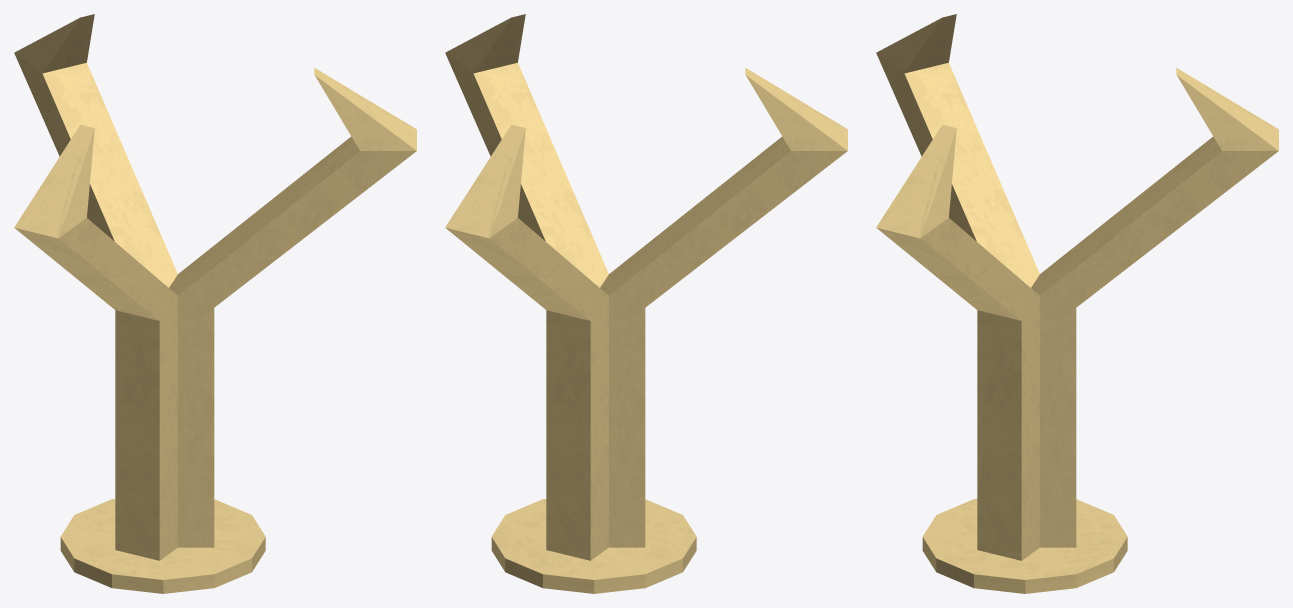
The model's file is CubeHolder.fbx.
The picture shows the model from 3 angles, left to right: view 1: azimuth 30°, elevation 25°; view 2: azimuth 150°, elevation 25°; view 3: azimuth 270°, elevation 25°; orthographic projection.
Visible parts, largest first — view 1: Holder, Cylinder; view 2: Holder, Cylinder; view 3: Holder, Cylinder.
Boxes of the visible parts, bbox=[...] form: Holder: bbox=[14, 14, 416, 560]; Cylinder: bbox=[60, 499, 265, 593]; Holder: bbox=[445, 14, 847, 560]; Cylinder: bbox=[491, 499, 696, 593]; Holder: bbox=[876, 14, 1278, 560]; Cylinder: bbox=[922, 499, 1127, 593].
Bounding box in the file's own units: 907 × 1032 × 785.
